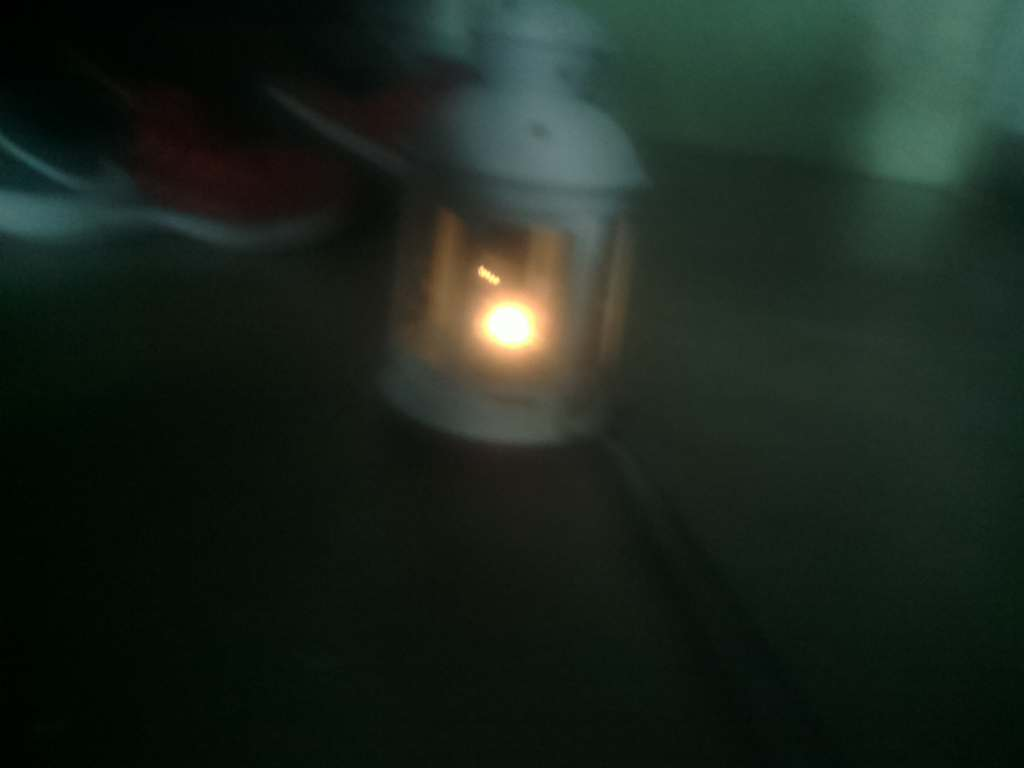fire: (449, 280, 599, 381)
